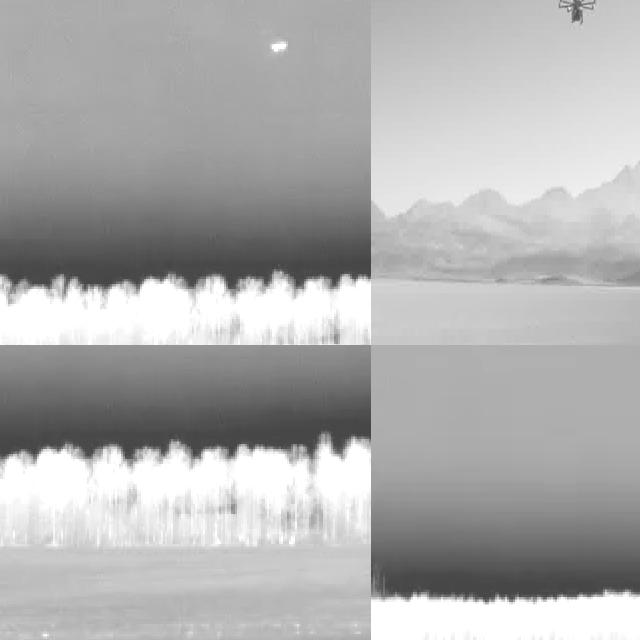1: (261, 35, 297, 65)
drone: (551, 0, 600, 31)
